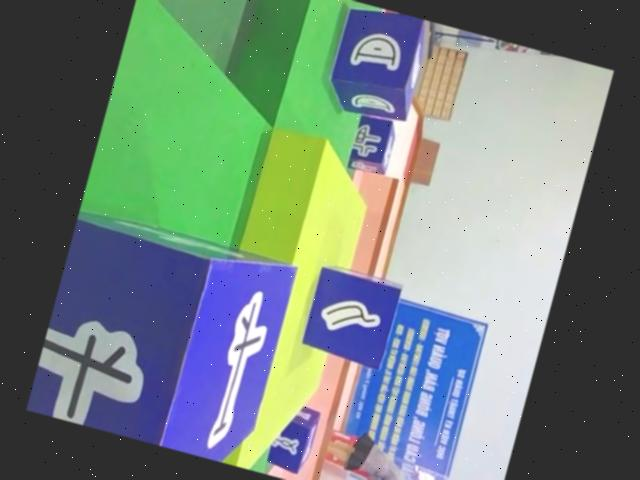R2 Real Blue: (26, 203, 305, 470), (319, 0, 433, 127), (300, 258, 408, 368), (264, 396, 322, 474), (346, 110, 400, 176)
